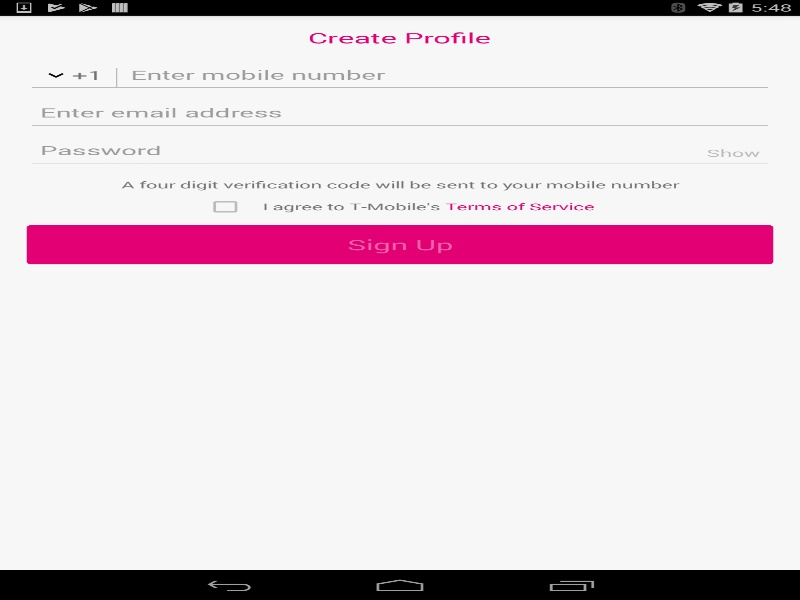Button: (26, 225, 773, 264)
Input: (34, 101, 765, 124), (34, 139, 696, 162), (125, 64, 765, 86)
